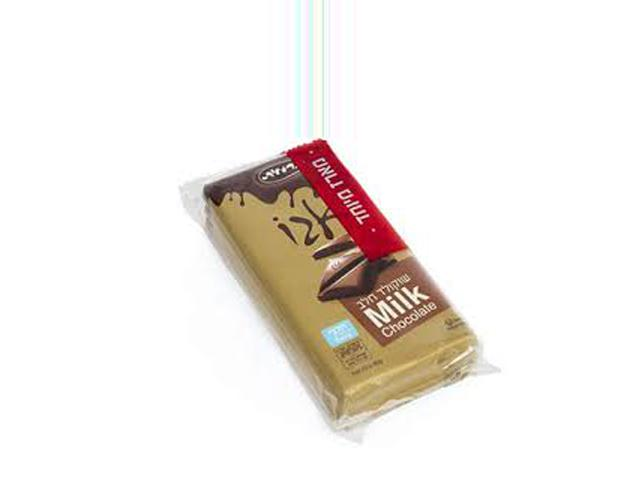chocolate: (196, 143, 513, 428)
